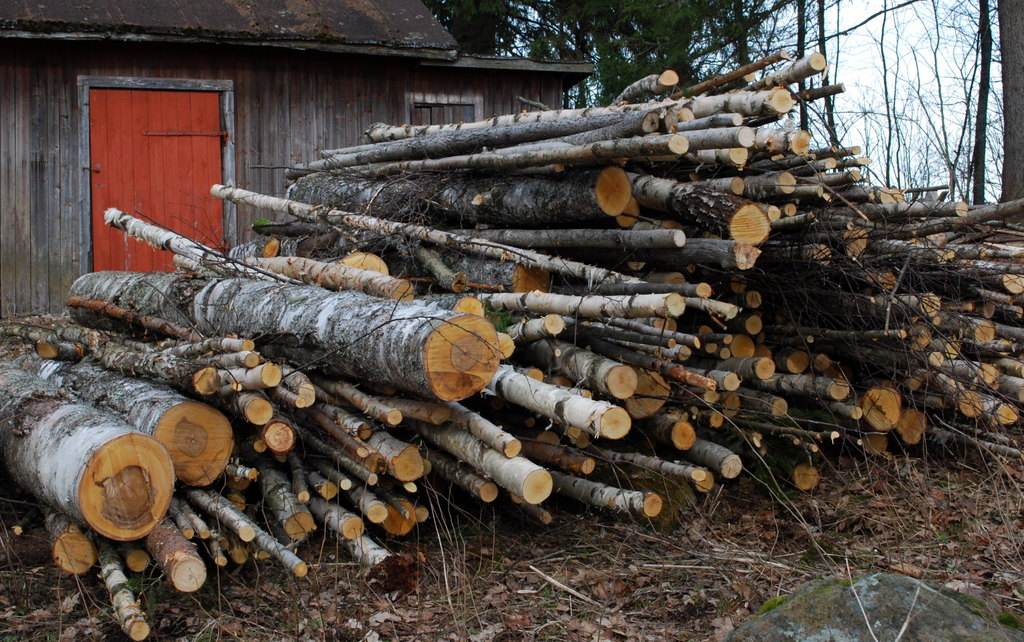Tree: (421, 0, 1023, 225)
